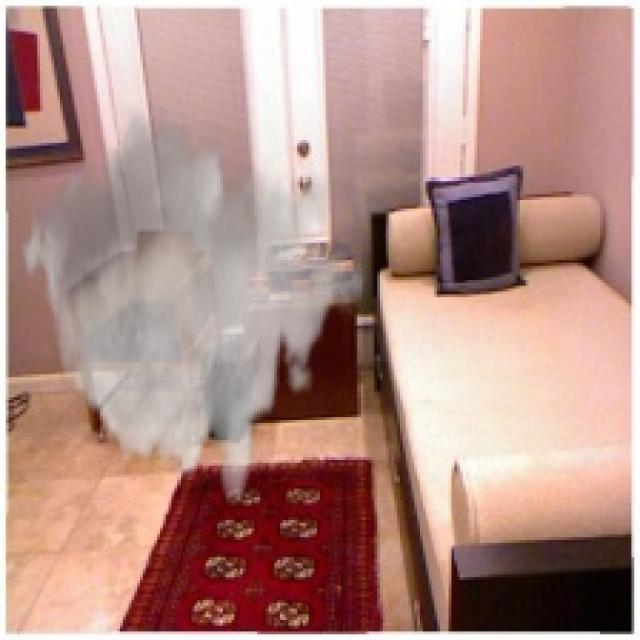smoke: (17, 100, 366, 509)
